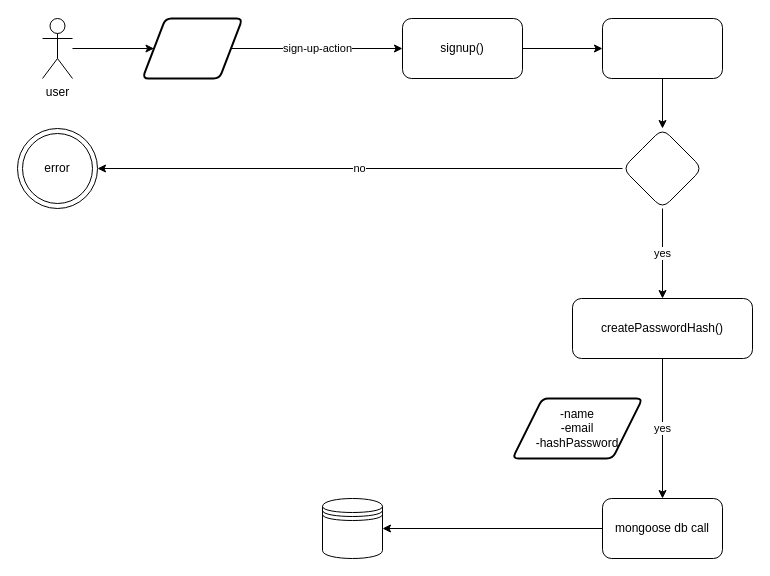
This 770x576 diagram has some shape labels left out. The shapes that lost their labels are listed below. From the top down, each one's centre as x and y in pixels, then its label:
the point at 192,48: -name -email -password
the point at 662,48: verify email
the point at 662,168: is verified?
the point at 352,528: database
